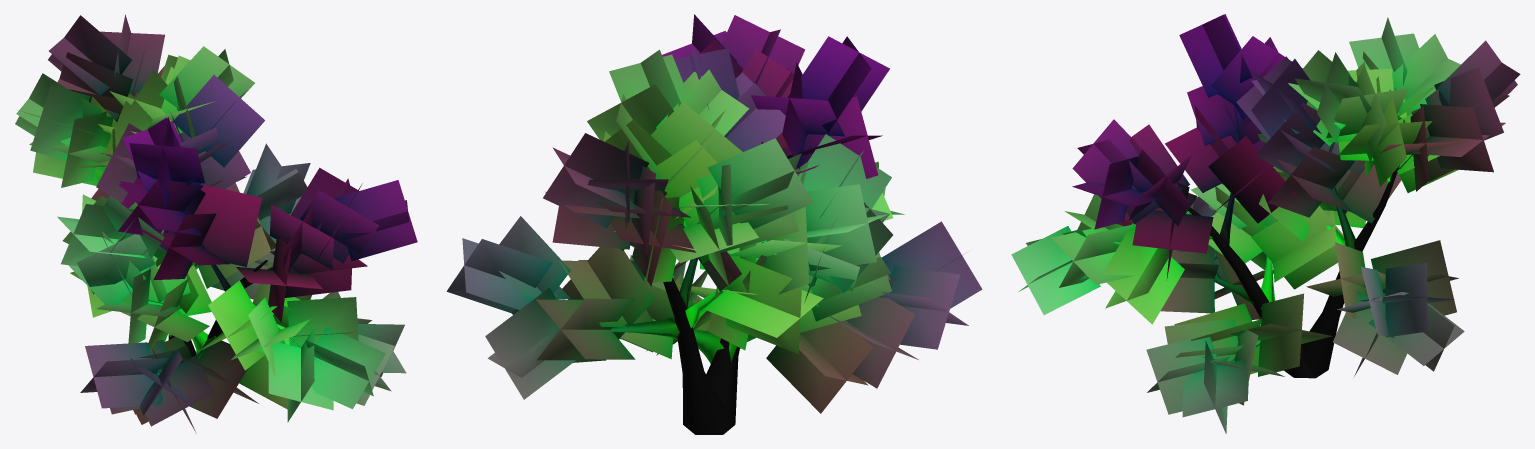
File: URP_P11_Tree_8_LOD_3.fbx
3 renders of one model, left to right at view 1: azimuth 30°, elevation 25°; view 2: azimuth 150°, elevation 25°; view 3: azimuth 270°, elevation 25°, orthographic. The views are drawn at different scales.
Parts seen in each view (by area): view 1: Tree_8_LOD_3; view 2: Tree_8_LOD_3; view 3: Tree_8_LOD_3.
Boxes of the visible parts, bbox=[...] form: Tree_8_LOD_3: bbox=[15, 14, 417, 433]; Tree_8_LOD_3: bbox=[446, 14, 982, 434]; Tree_8_LOD_3: bbox=[1011, 14, 1520, 433].
Size of the model in its own units: 558 by 542 by 755.
